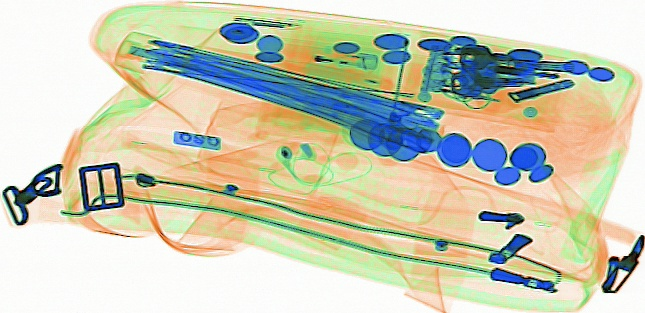lighter: (267, 41, 377, 69)
